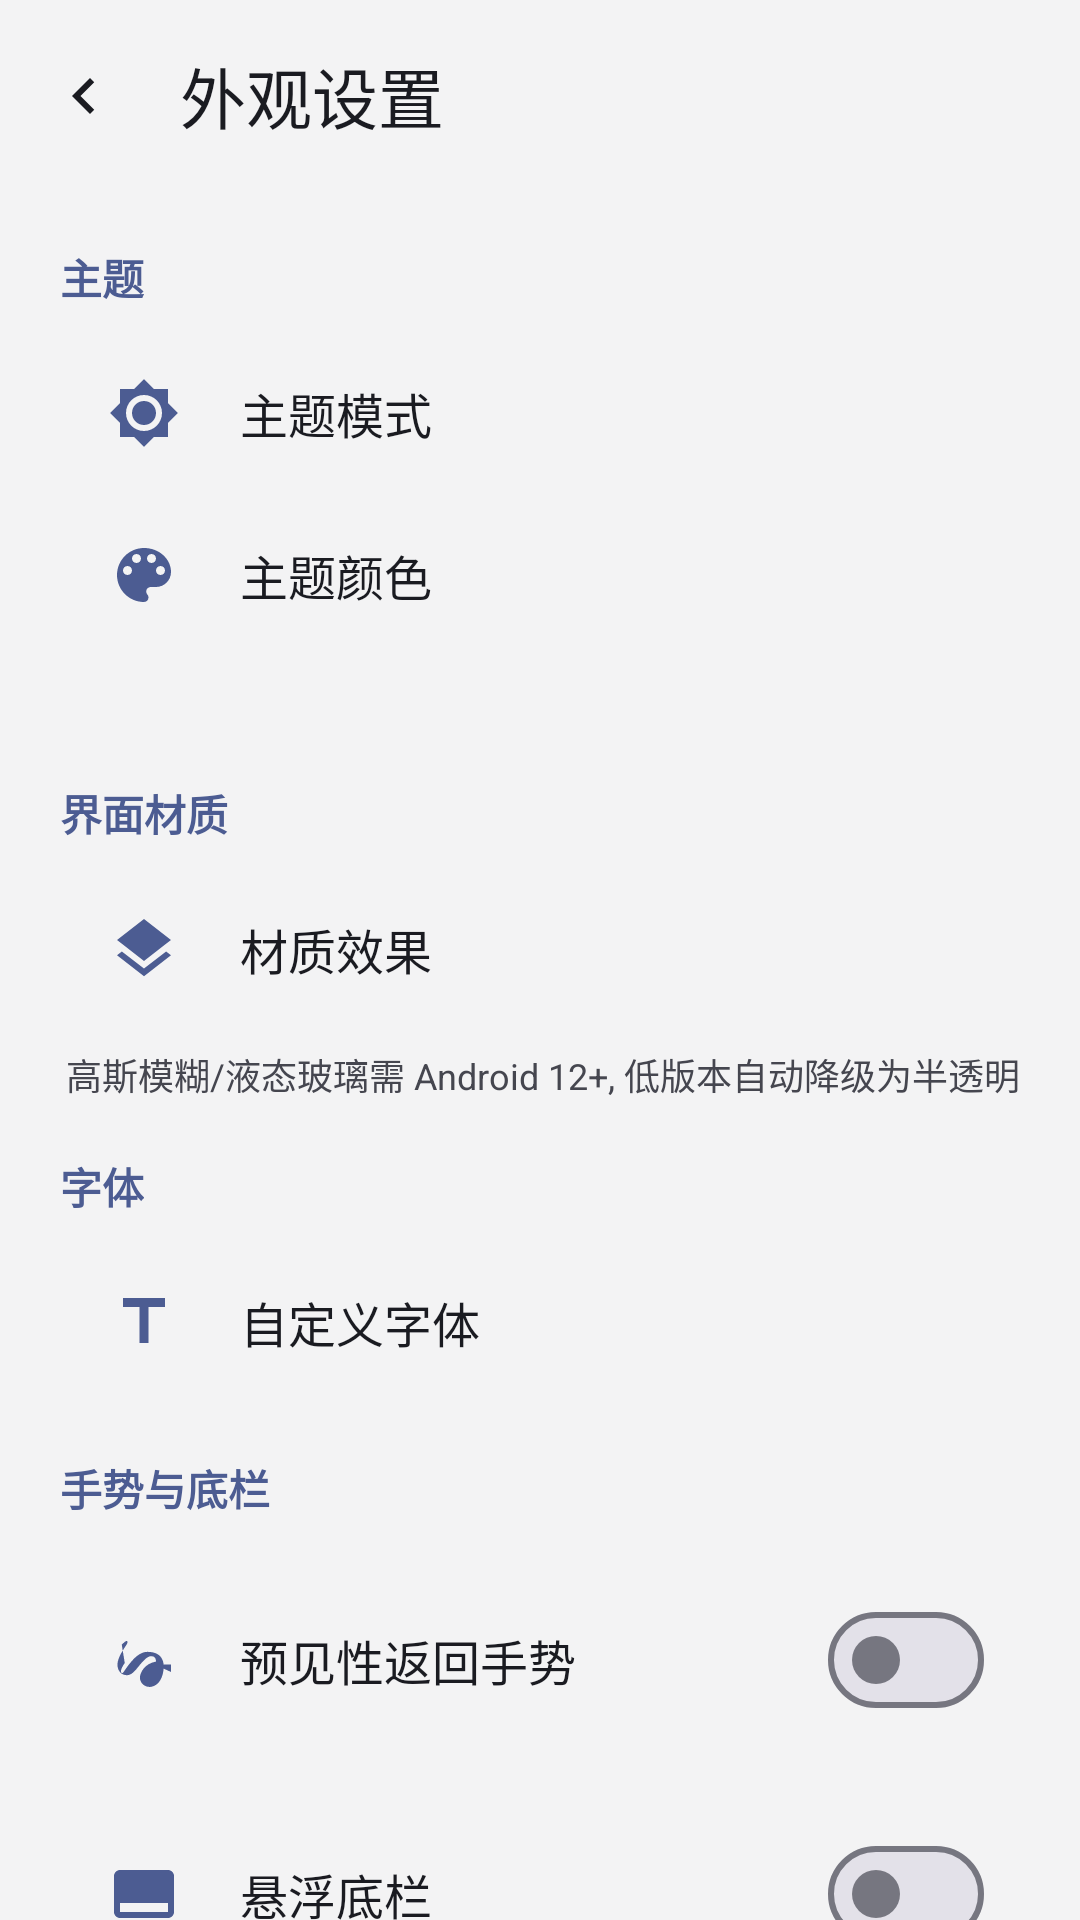

Screen size 1080px×1920px. Icon name, then its box in pixels as bbox=(x1, y1, x2, y2):
font: bbox=(123, 1298, 165, 1343)
gesture: bbox=(117, 1641, 171, 1687)
palette: bbox=(117, 548, 171, 602)
theme mode: bbox=(110, 379, 178, 447)
